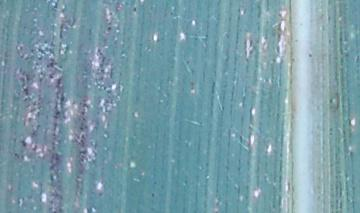tarspot: (21, 85, 31, 96), (55, 77, 63, 90), (19, 139, 28, 148), (52, 110, 61, 119), (45, 61, 55, 69), (59, 94, 66, 104), (150, 191, 157, 199), (105, 25, 112, 32), (131, 6, 138, 13), (326, 37, 332, 45), (48, 72, 54, 80), (306, 52, 312, 58), (328, 97, 333, 104)
